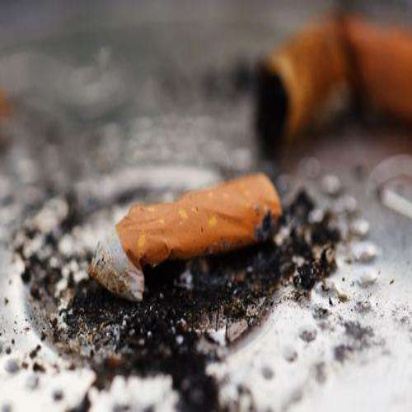cigarette: (99, 168, 295, 302), (233, 11, 409, 160)
